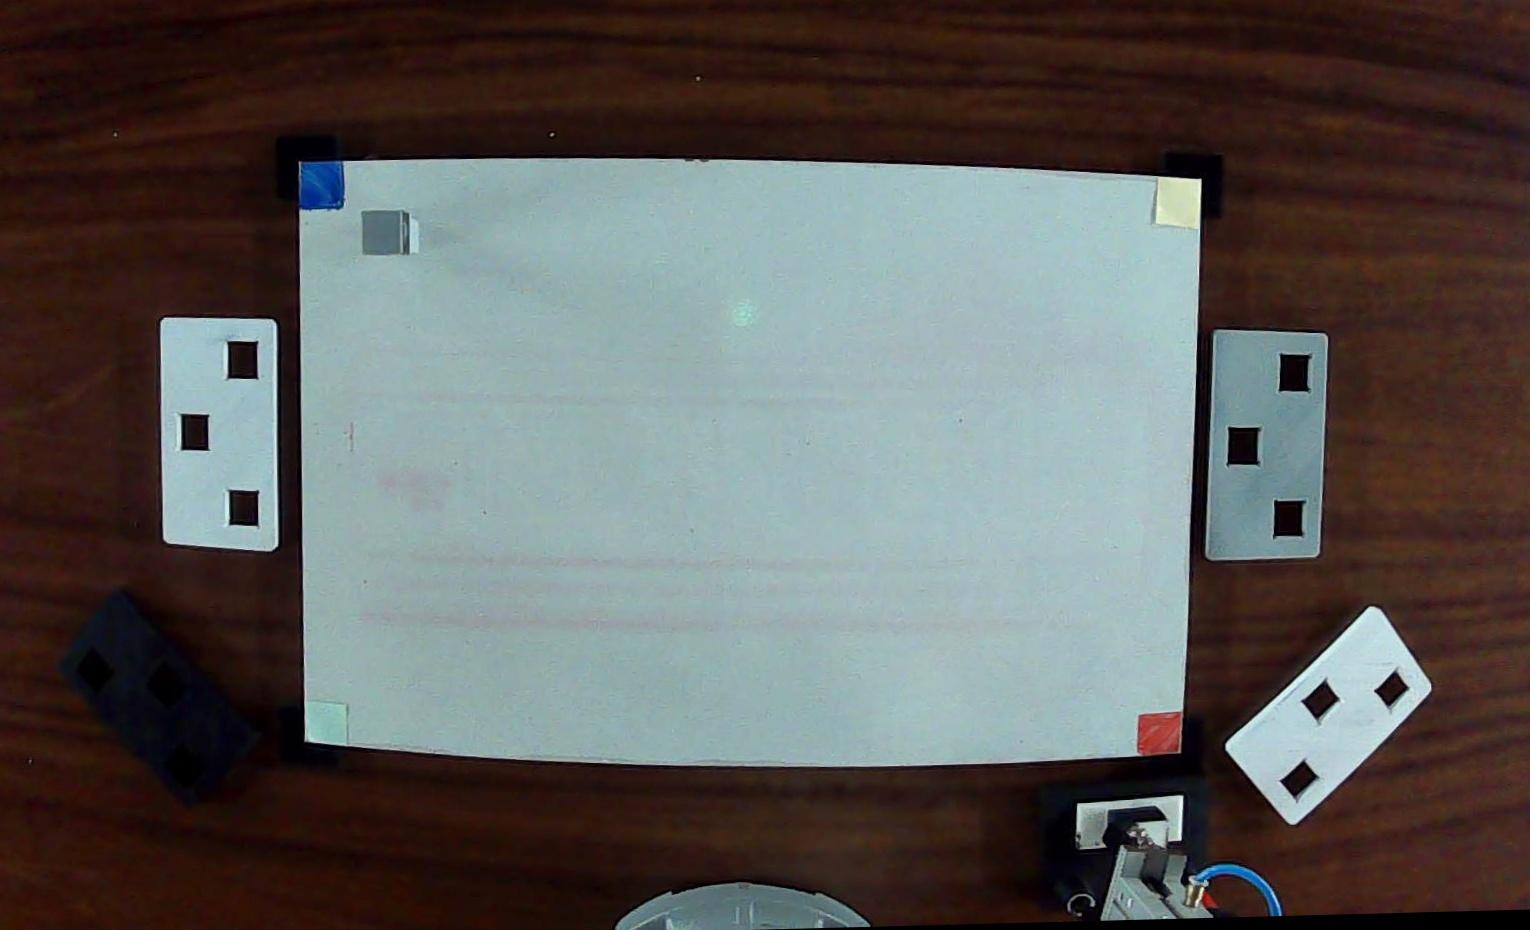pecaCinza: (360, 204, 416, 260)
